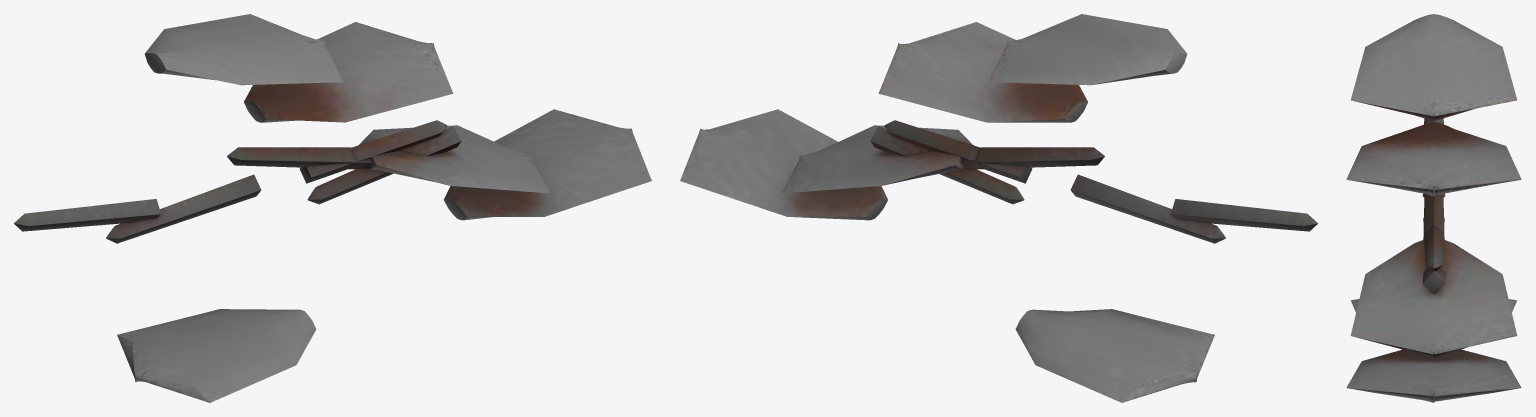
File: arrowheads_broad.glb
3 views of the same model, side by side, from view 1: azimuth 30°, elevation 25°; view 2: azimuth 150°, elevation 25°; view 3: azimuth 270°, elevation 25° (orthographic). The views are drawn at different scales.
Parts seen in each view (by area): view 1: arrowheads_broad; view 2: arrowheads_broad; view 3: arrowheads_broad.
Part boxes in pixels (x1,y1,x2,y2): arrowheads_broad: [14, 14, 651, 402]; arrowheads_broad: [680, 14, 1317, 402]; arrowheads_broad: [1346, 14, 1521, 402].
Bounding box in the file's own units: 0.1238 × 0.0617 × 0.0339.
1 material, 1 textured.
